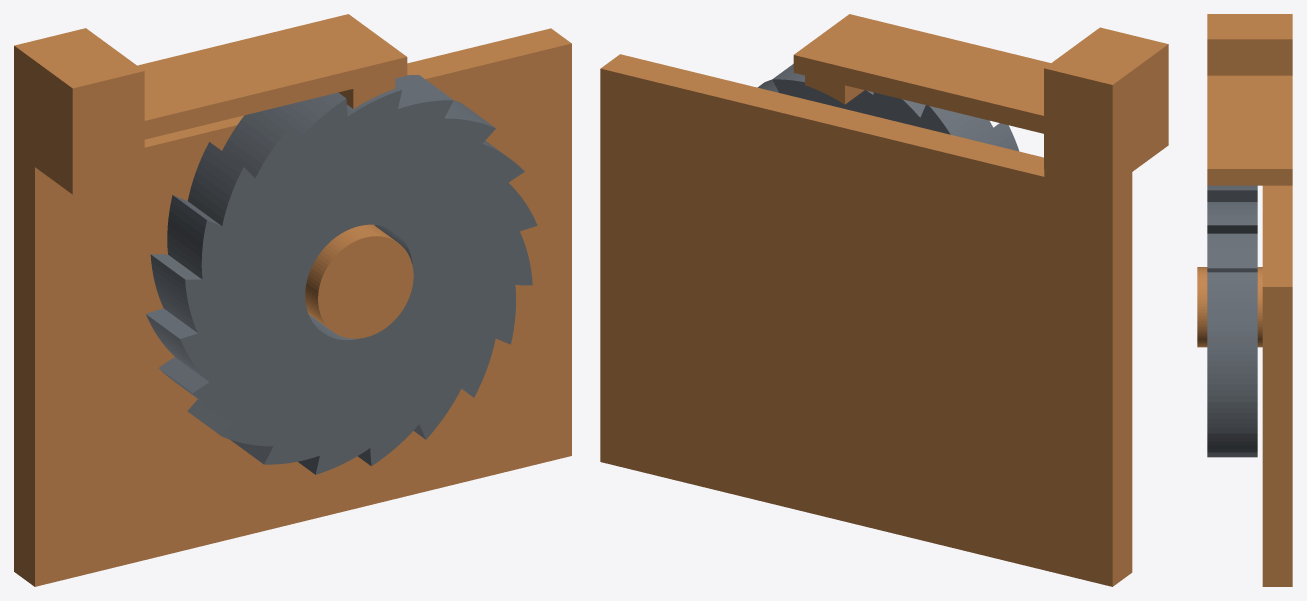
3 views of the same model, side by side, from view 1: azimuth 30°, elevation 25°; view 2: azimuth 150°, elevation 25°; view 3: azimuth 270°, elevation 25° (orthographic). The views are drawn at different scales.
Visible parts, largest first — view 1: base, roue; view 2: base, roue; view 3: base, roue.
Part boxes in pixels (box(x1,y1,x2,y2)): base: box(14, 14, 571, 586); roue: box(146, 75, 537, 474); base: box(600, 14, 1168, 586); roue: box(757, 64, 1018, 151); base: box(1197, 14, 1292, 586); roue: box(1207, 185, 1257, 457).
Bounding box in the file's own units: 44.96 × 42.1 × 9.5.
